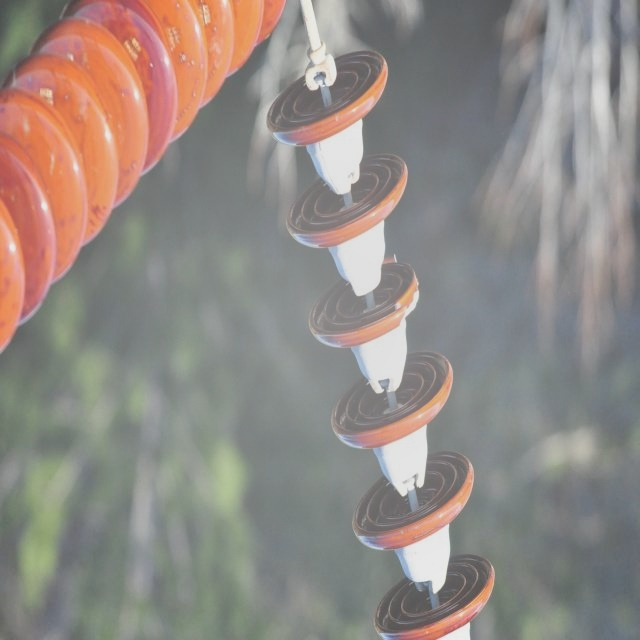broken: (391, 247, 420, 324)
insulator: (268, 49, 495, 640), (1, 0, 284, 359)
